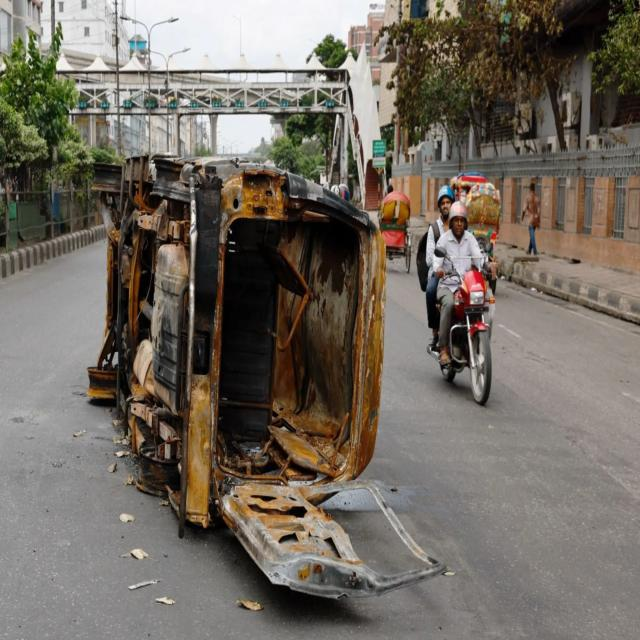bike: (411, 246, 513, 400)
